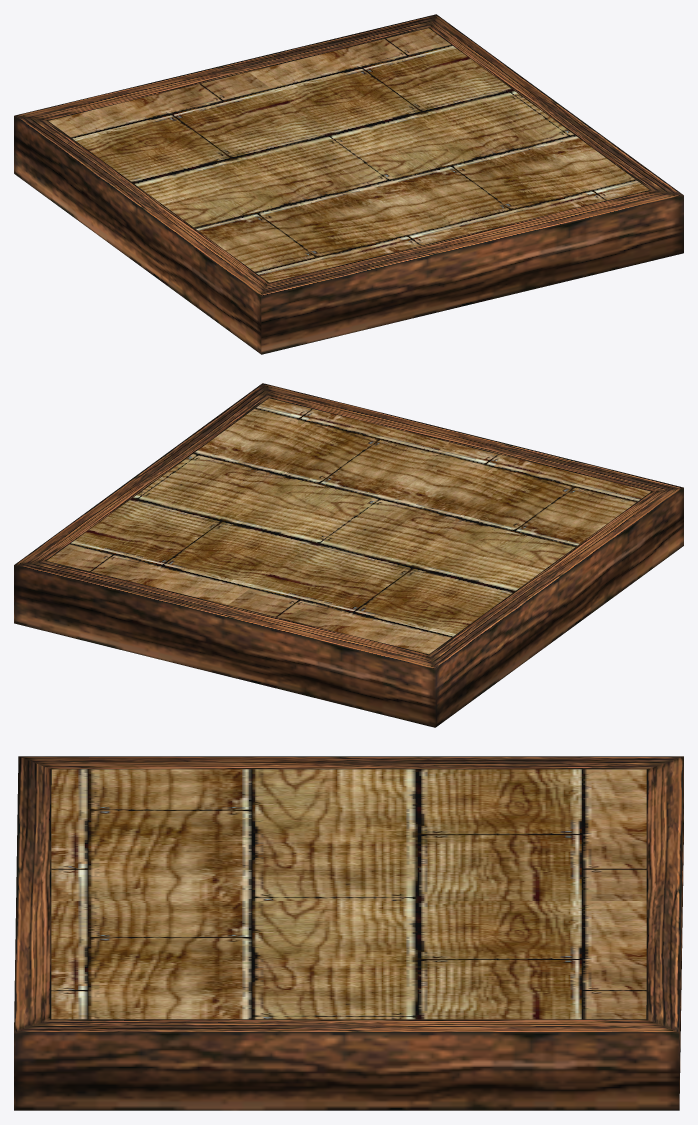
The model's file is LAKETOWN_WAREHOUSE1_ANIM_WH1_FALLPLAT_3939__AI.fbx.
3 views of the same model, one above another, from view 1: azimuth 30°, elevation 25°; view 2: azimuth 150°, elevation 25°; view 3: azimuth 270°, elevation 25° (orthographic). The views are drawn at different scales.
Visible parts, largest first — view 1: LAKETOWN_WAREHOUSE1_ANIM_WH1_FALLPLAT_3939__AI; view 2: LAKETOWN_WAREHOUSE1_ANIM_WH1_FALLPLAT_3939__AI; view 3: LAKETOWN_WAREHOUSE1_ANIM_WH1_FALLPLAT_3939__AI.
Boxes of the visible parts, bbox=[...] form: LAKETOWN_WAREHOUSE1_ANIM_WH1_FALLPLAT_3939__AI: bbox=[14, 14, 683, 354]; LAKETOWN_WAREHOUSE1_ANIM_WH1_FALLPLAT_3939__AI: bbox=[14, 383, 683, 727]; LAKETOWN_WAREHOUSE1_ANIM_WH1_FALLPLAT_3939__AI: bbox=[14, 756, 683, 1110].
Size of the model in its own units: 26020 by 3428 by 26659.
2 materials, 2 textured.
